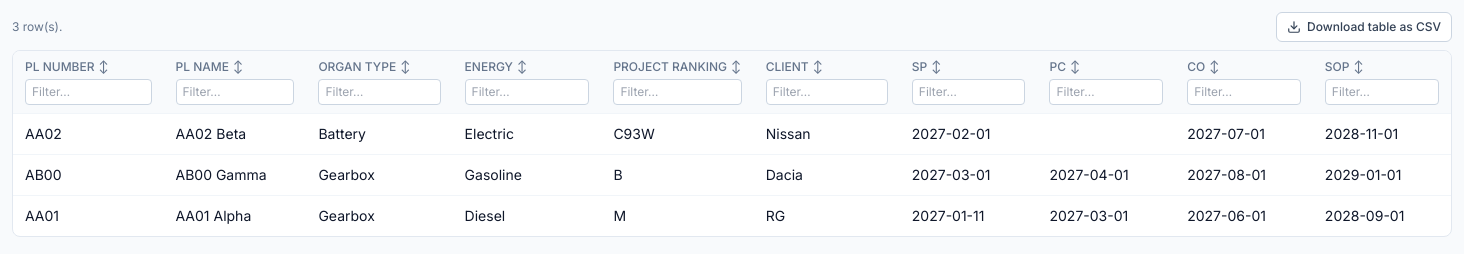
Test: FramingLineTable (§7.1, HIW-460) › filters by substring on that column only — AC#6
Step 1. Type "gear" into the field with test id "filter-organType" → (380, 92), box [318,79,441,105]
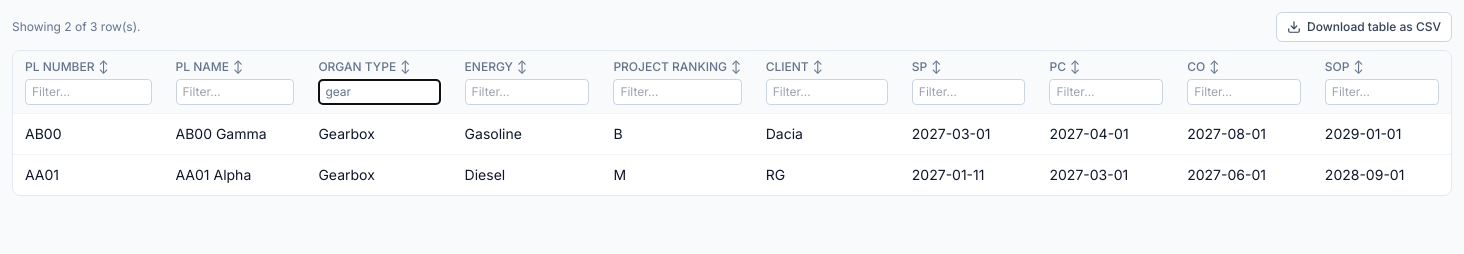
Now the text "AA02 Beta" is gone
